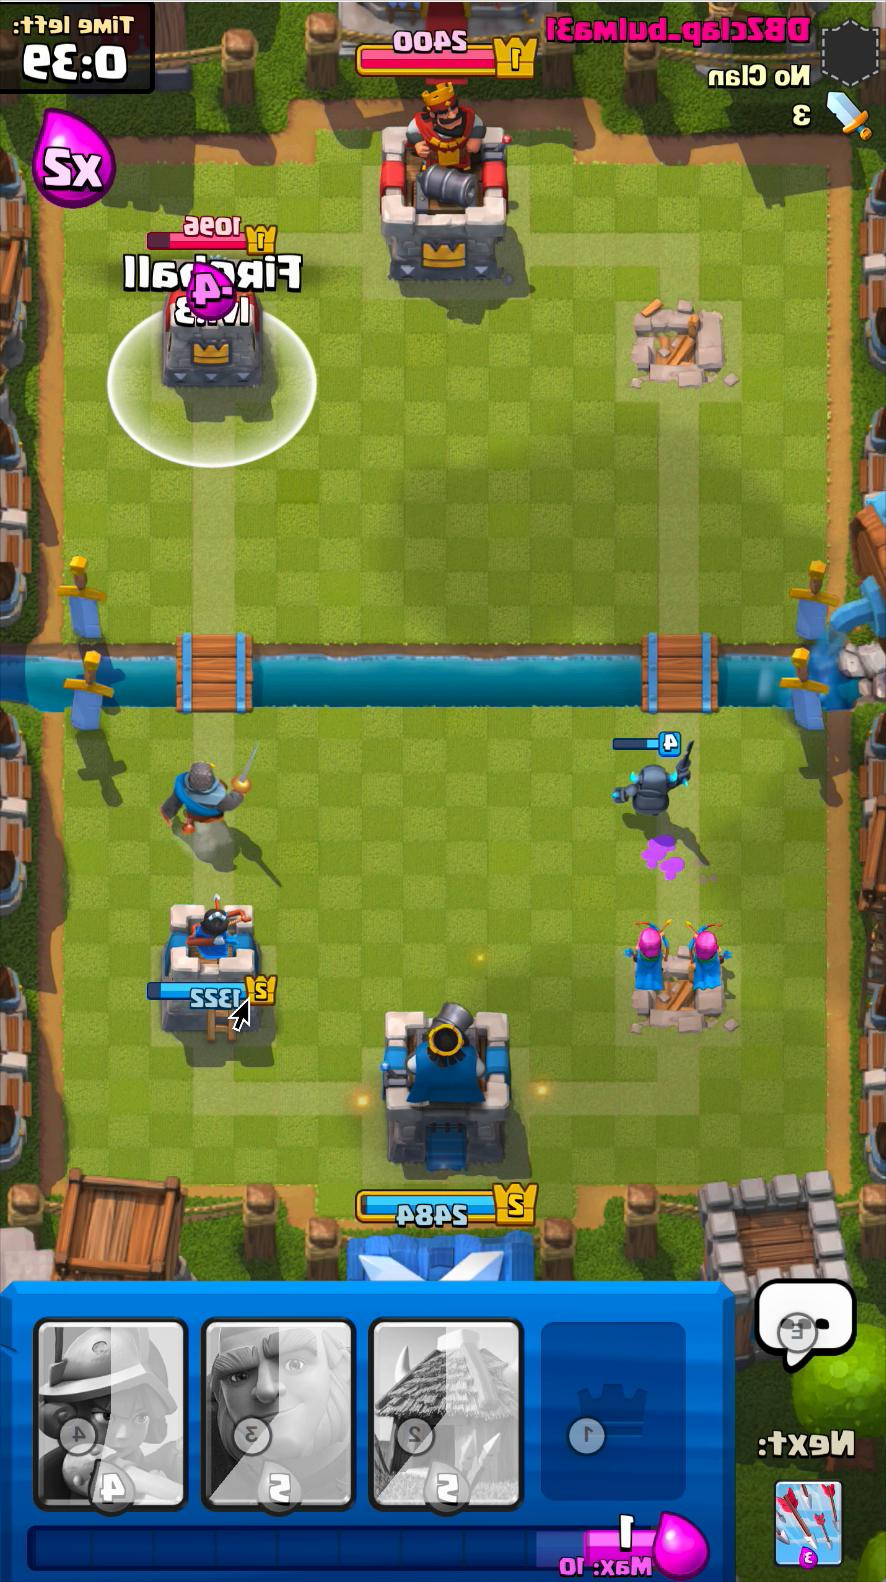archere: (622, 911, 677, 1005), (677, 914, 735, 1004)
chevalier: (155, 740, 263, 838)
mini_PEKKA: (608, 763, 685, 821)
